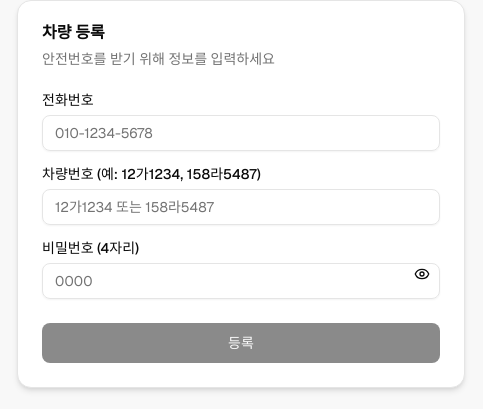
Test: RegisterForm Component - Design-TAG-006 › should accept valid Korean phone format
This screenshot has width=483, height=409.
In the field labelled "전화번호": (241, 133) [42,115,440,151], type "01012345678"
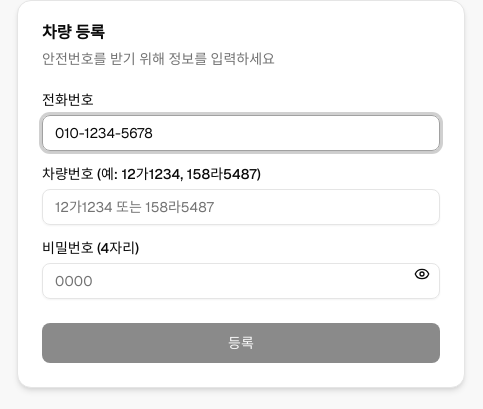
In the field labelled "차량번호 (예: 12가1234, 158라5487)": (241, 207) [42,189,440,225], type "12가1234"
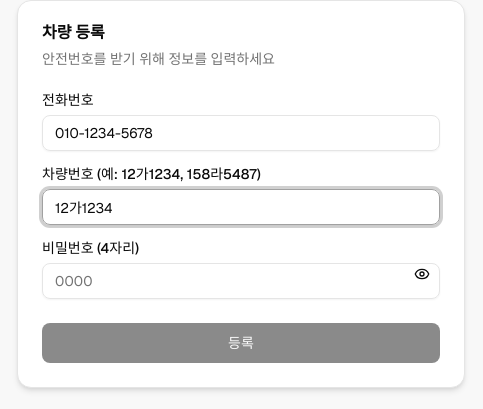
In the password field labelled "비밀번호 (4자리)": (241, 281) [42,263,440,299], type "1234"
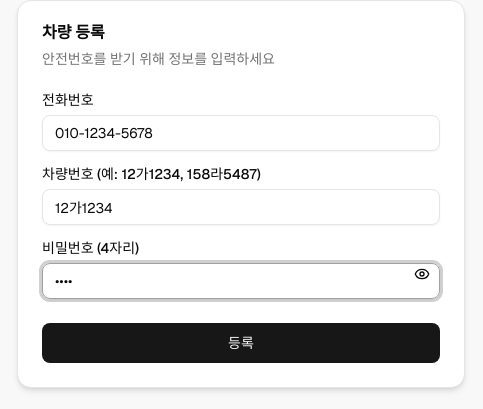
Now the button "등록" is enabled, box [42,323,440,363]
